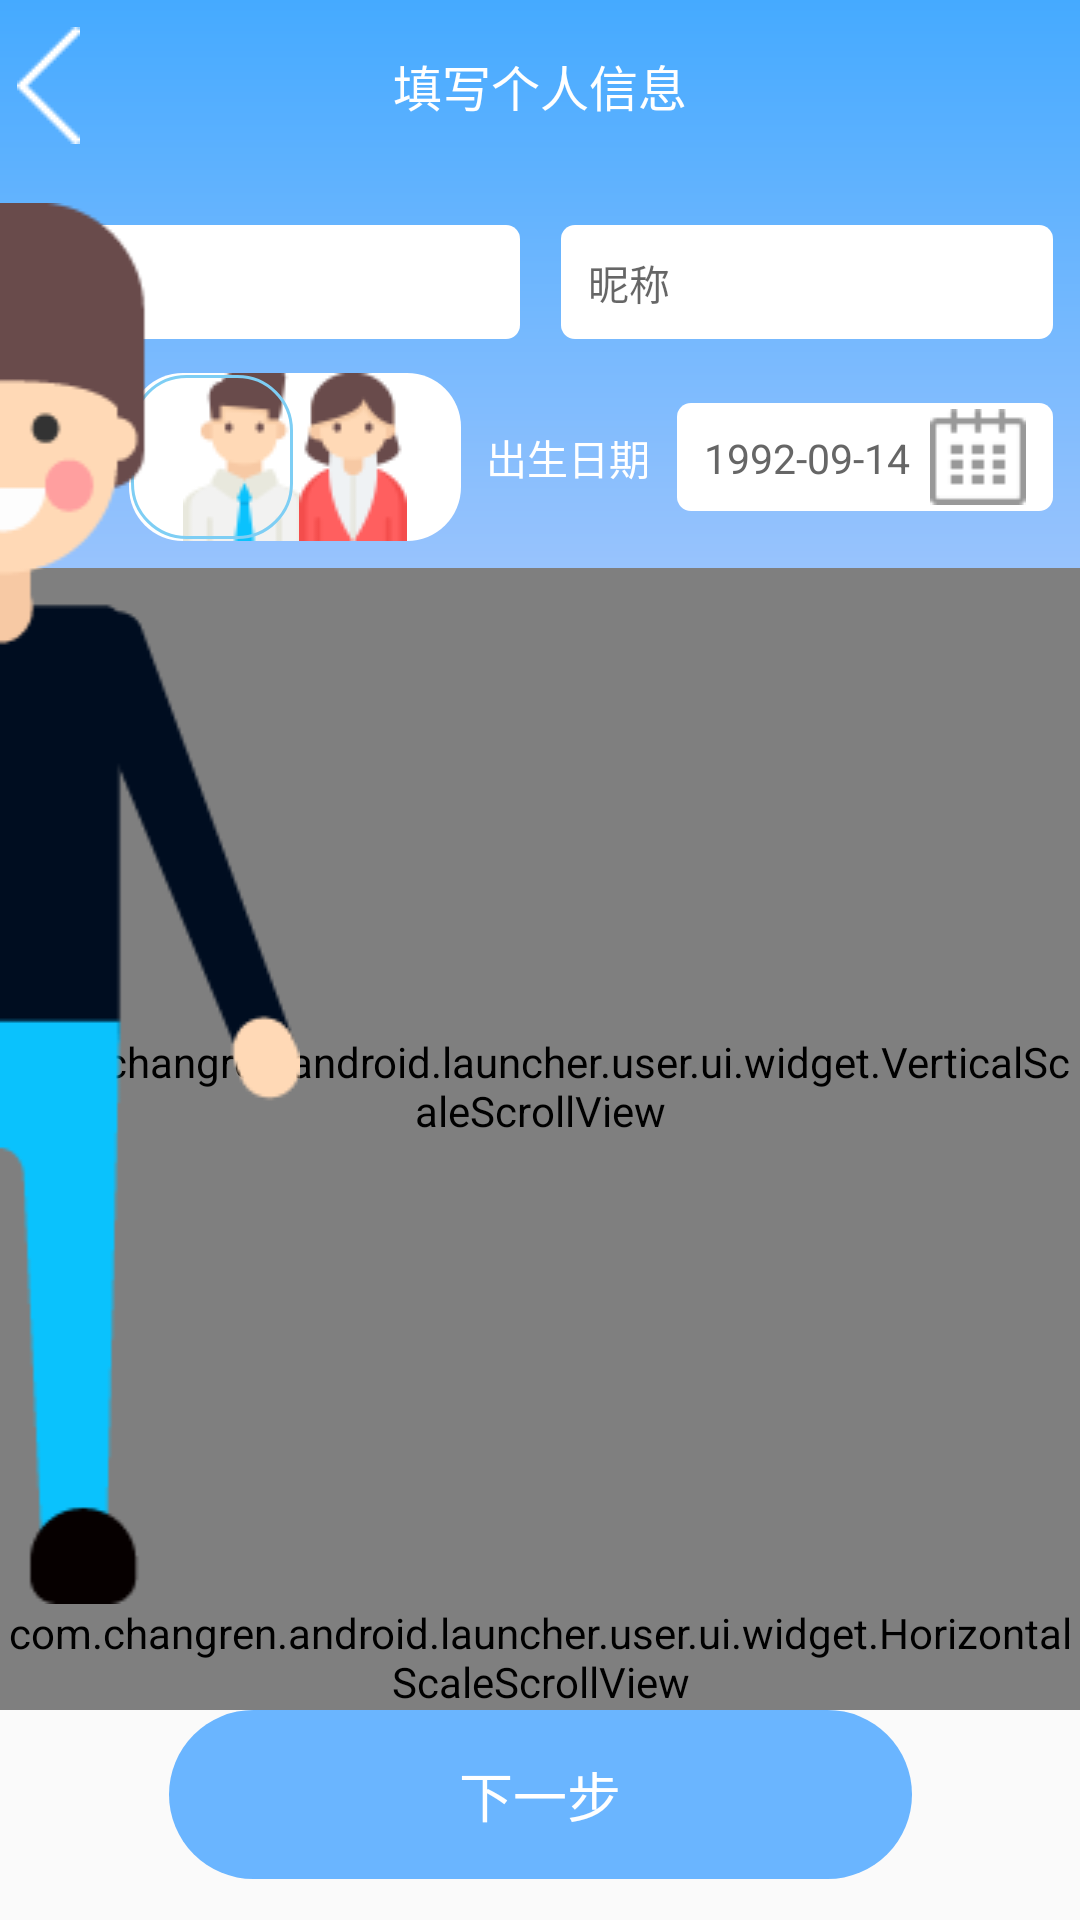

Named icons in this screenshot (1080 × 1920) and their bounding boxes, (left=x1, top=y1, right=x2, bottom=y2):
back: (left=0, top=0, right=97, bottom=144)
